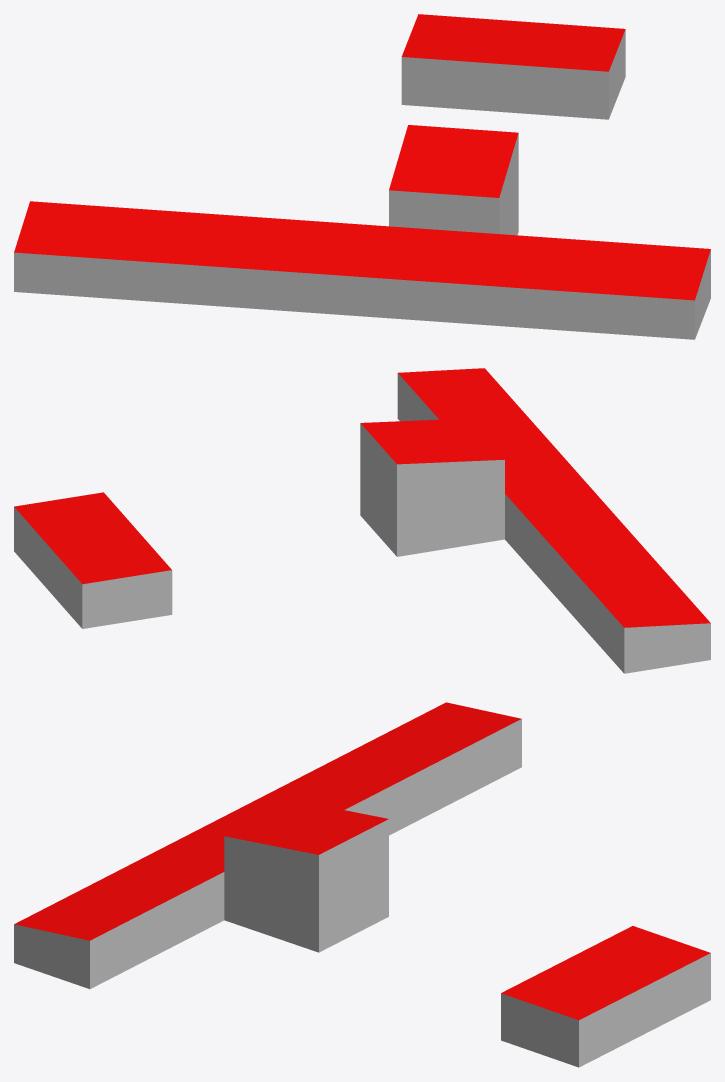
3 renders of one model, top to bottom at view 1: azimuth 30°, elevation 25°; view 2: azimuth 150°, elevation 25°; view 3: azimuth 270°, elevation 25°, orthographic. The views are drawn at different scales.
Bounding box in the file's own units: 43.35 × 6.05 × 39.11.
